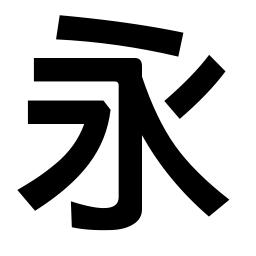D: (54, 12, 184, 51)
HSZ: (108, 55, 147, 92)
Hs: (31, 56, 76, 83)
Ne: (191, 181, 234, 219)
PNc: (143, 98, 188, 129)
PZe: (14, 180, 49, 212)
Ps: (194, 52, 228, 82)
SG: (68, 195, 144, 233)
Sm: (116, 155, 145, 180)
TPZ: (72, 98, 112, 141)
Ts: (25, 96, 52, 128)
